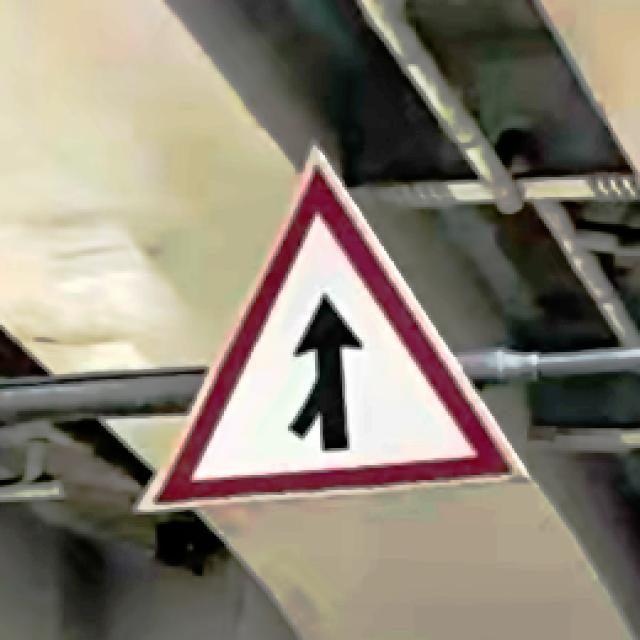leftmerge: (160, 170, 510, 507)
